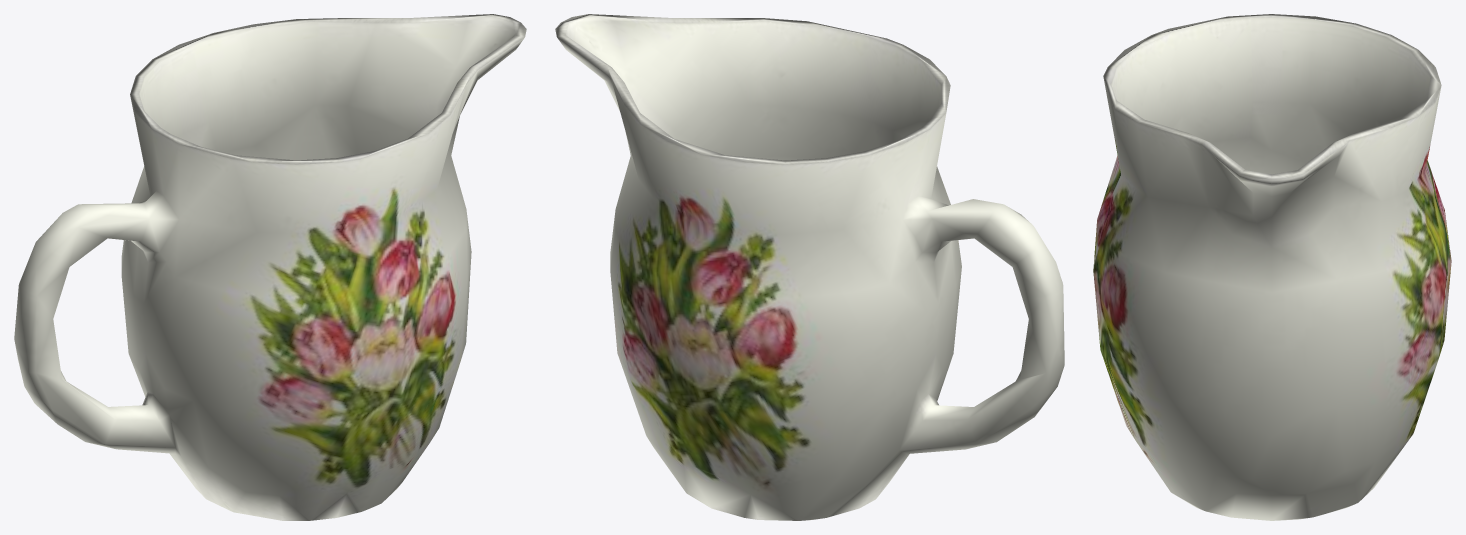
The model's file is jug_01.glb.
3 views of the same model, side by side, from view 1: azimuth 30°, elevation 25°; view 2: azimuth 150°, elevation 25°; view 3: azimuth 270°, elevation 25° (orthographic).
Visible parts, largest first — view 1: jug_01; view 2: jug_01; view 3: jug_01.
Boxes of the visible parts, left/top/right/bottom form: jug_01: left=14, top=14, right=526, bottom=520; jug_01: left=555, top=14, right=1064, bottom=520; jug_01: left=1093, top=14, right=1451, bottom=520.
Bounding box in the file's own units: 0.275 × 0.2103 × 0.1668.
Materials: 1 (1 with a texture image).
